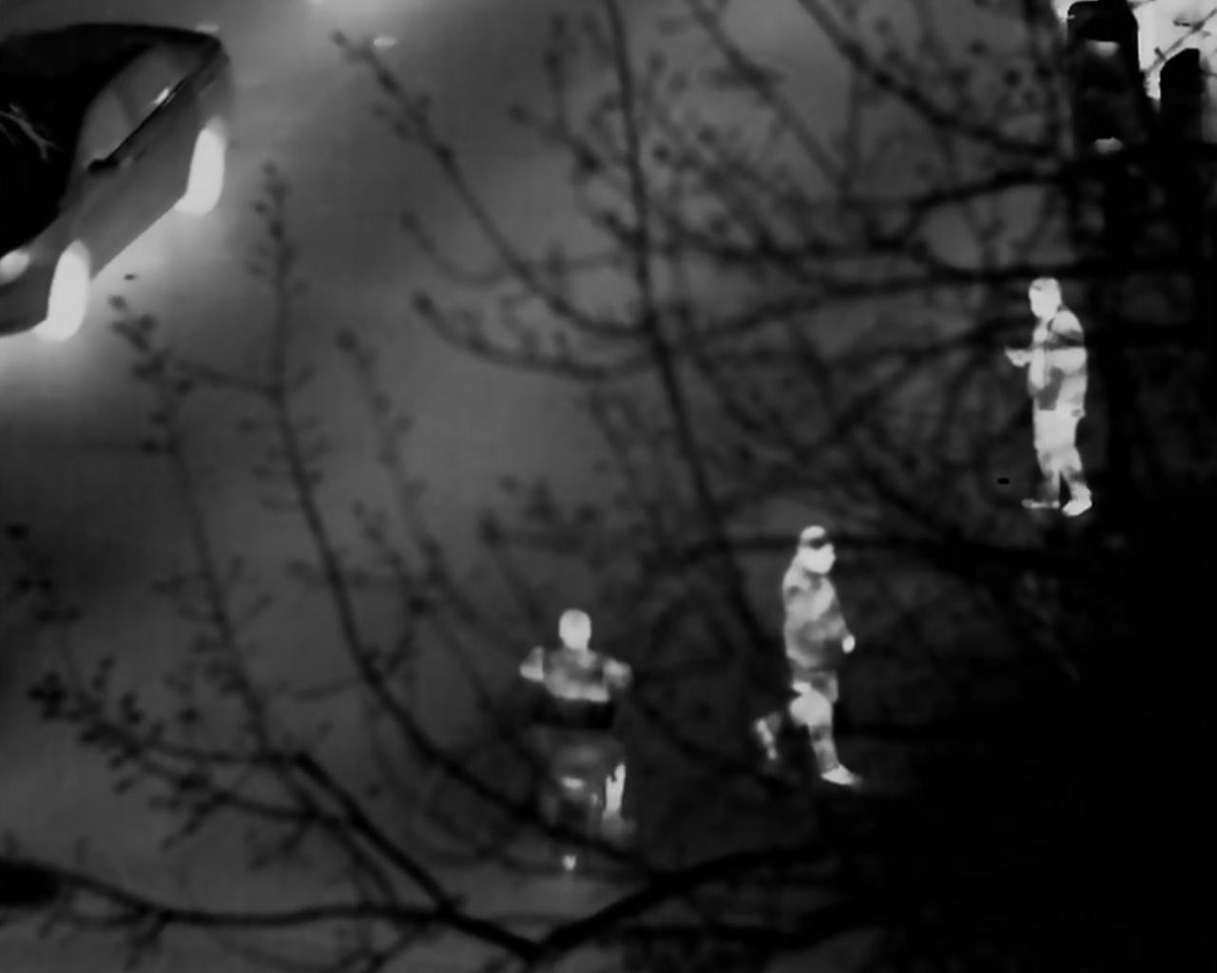person: (747, 511, 867, 792), (526, 604, 628, 811), (1015, 272, 1087, 515)
